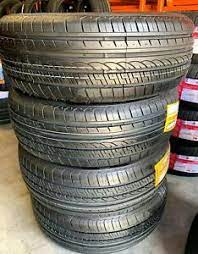tire: (1, 13, 194, 103), (8, 89, 179, 168), (30, 176, 168, 254), (18, 143, 169, 211)
